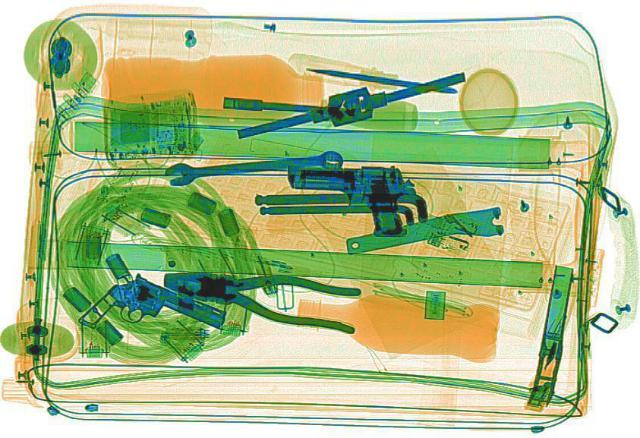Gun: (73, 267, 235, 360), (287, 161, 417, 235)
Pliers: (152, 253, 370, 332)
Wrench: (160, 146, 344, 186)
